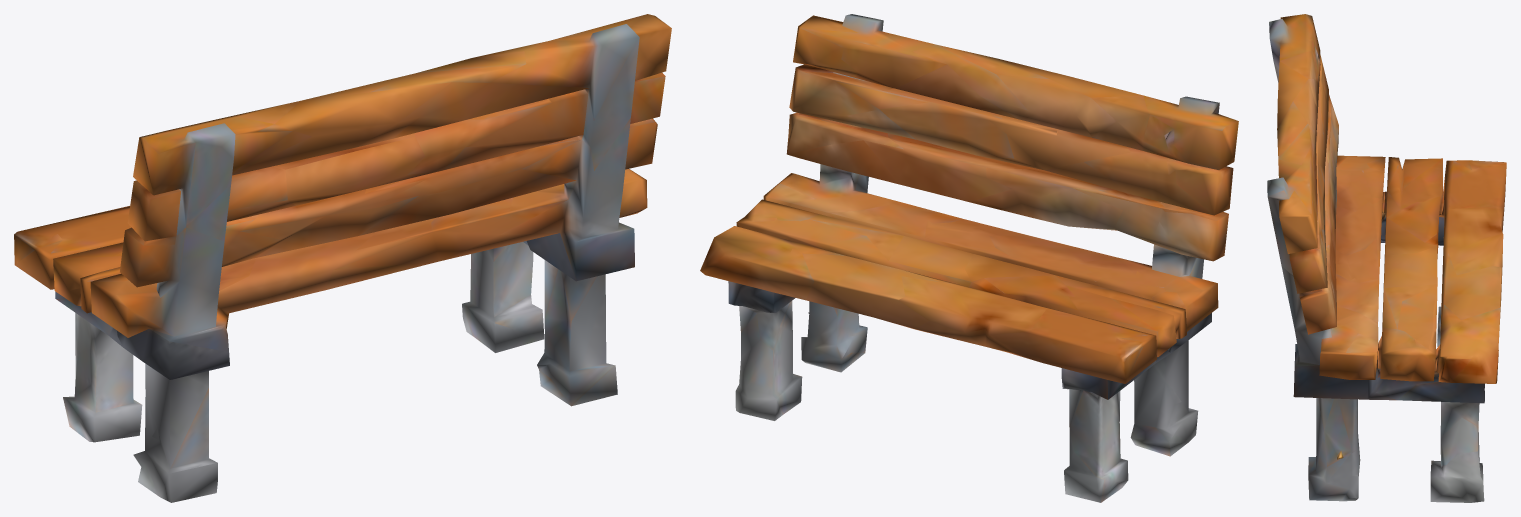
Rendered from bench.glb.
3 views of the same model, side by side, from view 1: azimuth 30°, elevation 25°; view 2: azimuth 150°, elevation 25°; view 3: azimuth 270°, elevation 25° (orthographic). The views are drawn at different scales.
Visible parts, largest first — view 1: tripo_node_02b0442f-6575-461b-a557-fa7c3ad8eb27; view 2: tripo_node_02b0442f-6575-461b-a557-fa7c3ad8eb27; view 3: tripo_node_02b0442f-6575-461b-a557-fa7c3ad8eb27.
Boxes of the visible parts, bbox=[...] form: tripo_node_02b0442f-6575-461b-a557-fa7c3ad8eb27: bbox=[14, 14, 671, 502]; tripo_node_02b0442f-6575-461b-a557-fa7c3ad8eb27: bbox=[700, 14, 1238, 502]; tripo_node_02b0442f-6575-461b-a557-fa7c3ad8eb27: bbox=[1267, 14, 1506, 502].
Bounding box in the file's own units: 1 × 0.7172 × 0.5.
Materials: 1 (1 with a texture image).
